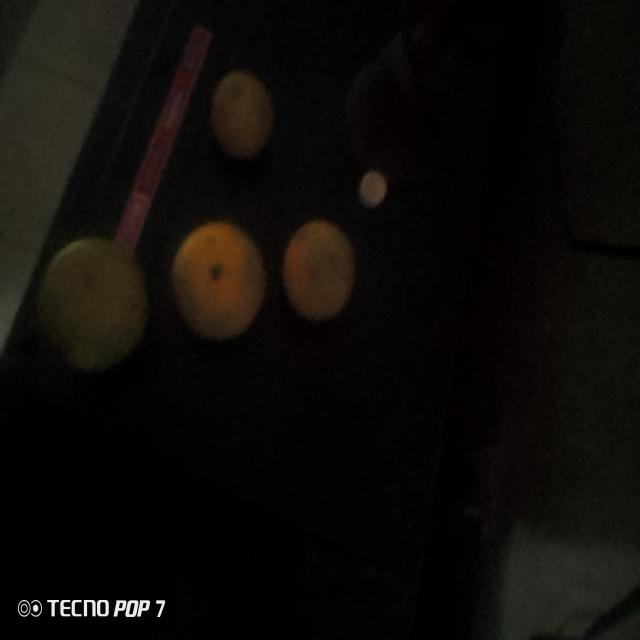agrume: (42, 239, 152, 365), (169, 218, 264, 338), (276, 223, 362, 319), (214, 69, 274, 148)
